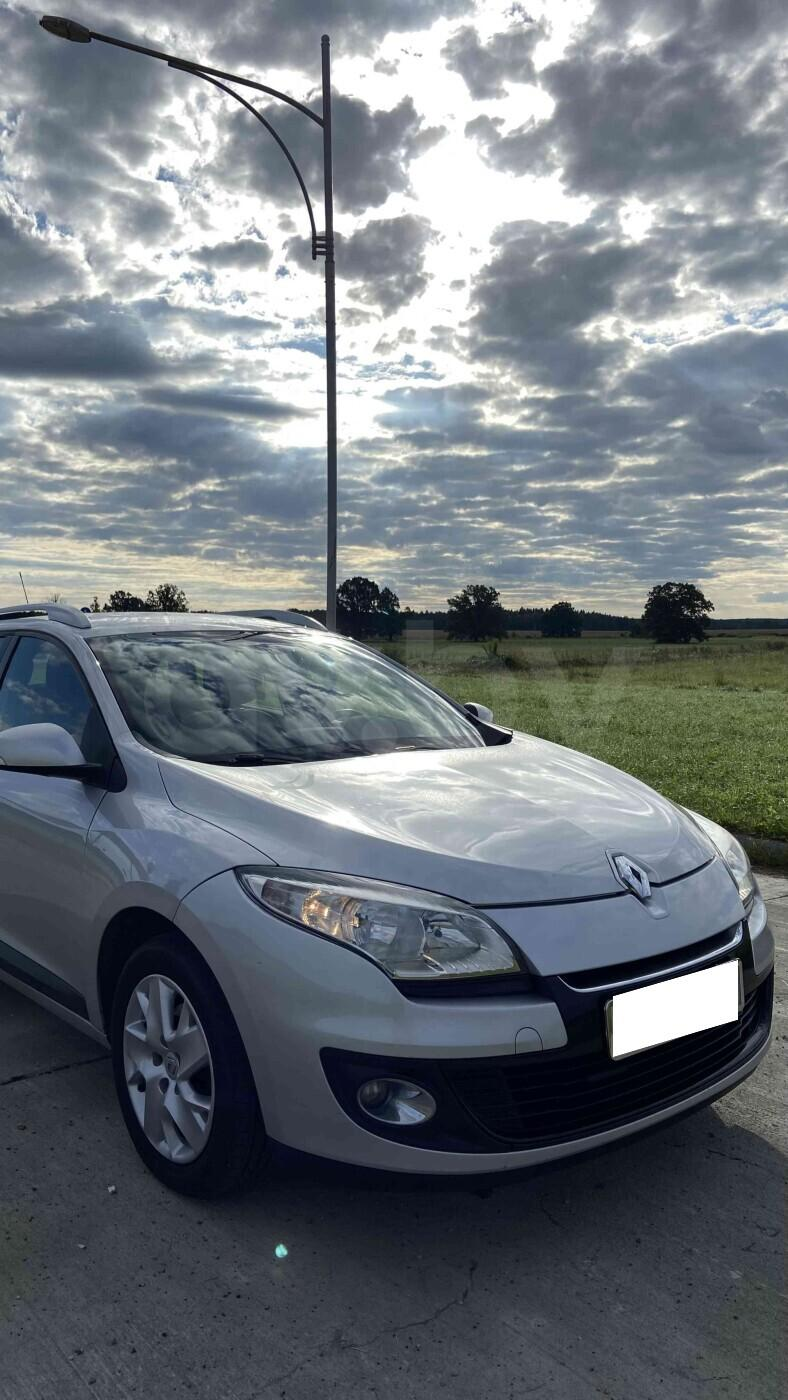Megane_2008-2014: (0, 588, 788, 1240)
